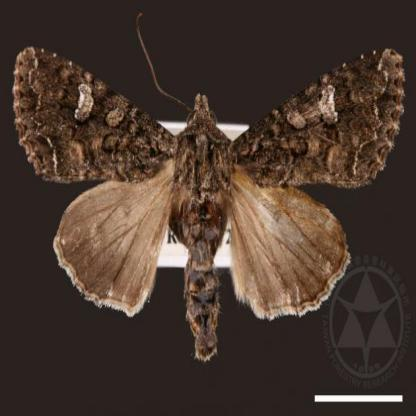armyworm: (10, 13, 410, 369)
